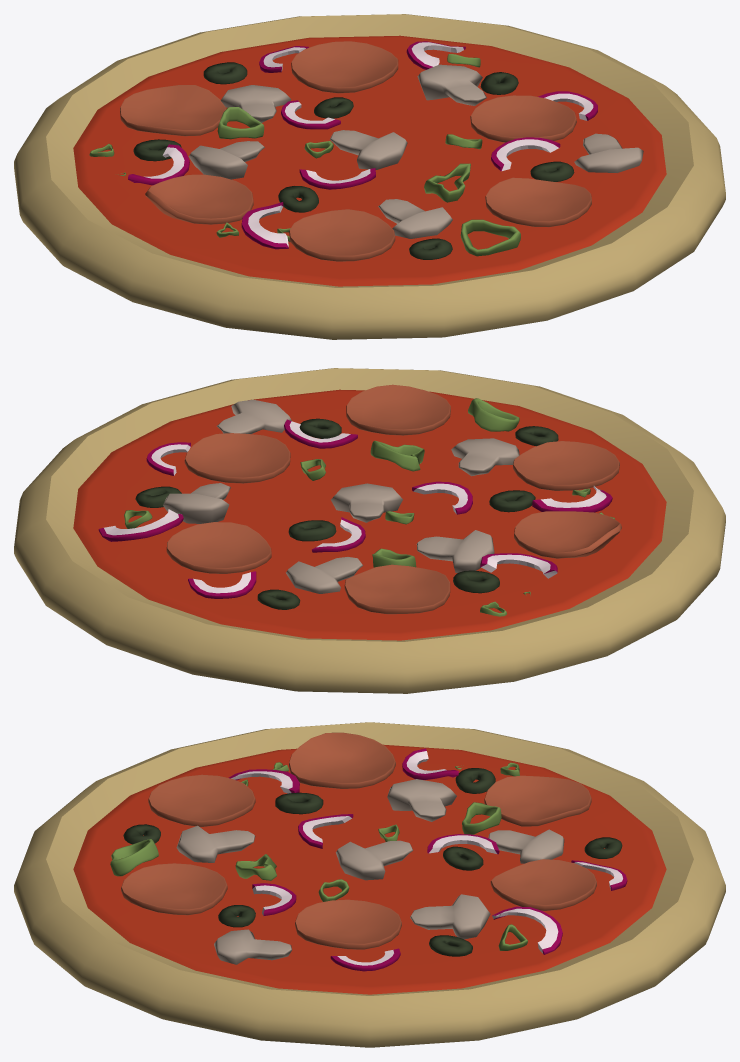
Rendered from flatbread_pizza.glb.
3 renders of one model, top to bottom at view 1: azimuth 30°, elevation 25°; view 2: azimuth 150°, elevation 25°; view 3: azimuth 270°, elevation 25°, orthographic.
Parts seen in each view (by area): view 1: pCylinder1, polySurface147, polySurface143, polySurface145, polySurface146, polySurface144, polySurface142, polySurface128, polySurface163, polySurface130, polySurface129, polySurface162 (+19 smaller); view 2: pCylinder1, polySurface142, polySurface147, polySurface145, polySurface144, polySurface143, polySurface146, polySurface130, polySurface128, polySurface163, polySurface161, polySurface129 (+19 smaller); view 3: pCylinder1, polySurface146, polySurface144, polySurface143, polySurface142, polySurface145, polySurface147, polySurface128, polySurface130, polySurface163, polySurface129, polySurface162 (+19 smaller).
Part boxes in pixels (x1,y1,x2,y2): pCylinder1: (14,14,725,339); polySurface147: (291,41,398,93); polySurface143: (289,209,395,261); polySurface145: (120,85,226,136); polySurface146: (145,174,253,224); polySurface144: (485,177,591,227); polySurface142: (470,95,576,142); polySurface128: (417,64,486,105); polySurface163: (330,130,407,169); polySurface130: (188,141,264,179); polySurface129: (378,199,452,238); polySurface162: (574,133,643,172); pCylinder1: (14,368,725,693); polySurface142: (184,433,290,483); polySurface147: (166,522,271,573); polySurface145: (344,564,450,614); polySurface144: (346,384,450,435); polySurface143: (513,441,619,490); polySurface146: (514,511,621,558); polySurface130: (416,530,494,572); polySurface128: (163,483,230,523); polySurface163: (331,483,402,522); polySurface161: (286,557,363,593); polySurface129: (451,438,519,476); pCylinder1: (14,722,725,1047); polySurface146: (289,732,395,788); polySurface144: (121,863,227,915); polySurface143: (148,774,255,826); polySurface142: (295,899,401,949); polySurface145: (484,775,591,826); polySurface147: (490,859,596,910); polySurface128: (410,894,490,939); polySurface130: (387,779,456,821); polySurface163: (336,840,413,880); polySurface129: (176,825,255,862); polySurface162: (214,929,291,964).
Size of the model in its own units: 1.38 by 0.1274 by 1.38.
